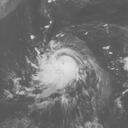cyclone: (35, 48, 84, 93)
